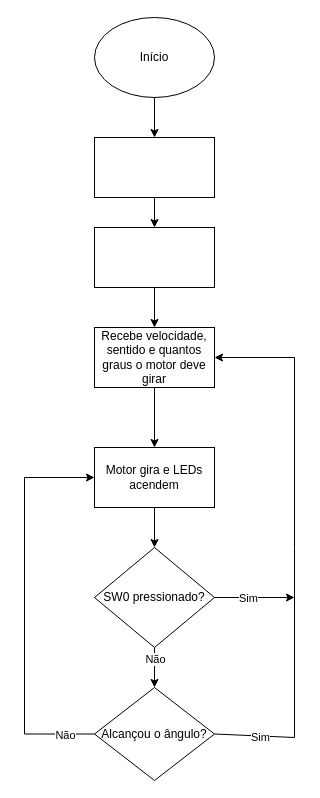
This 320x798 diagram has some shape labels left out. The box of each missing label's shape, as (x1, y1, x2, y2) in pixels:
Inicializa SysTick, GPIO, UART, etc: (94, 136, 214, 198)
Motor parado: (94, 226, 214, 288)
